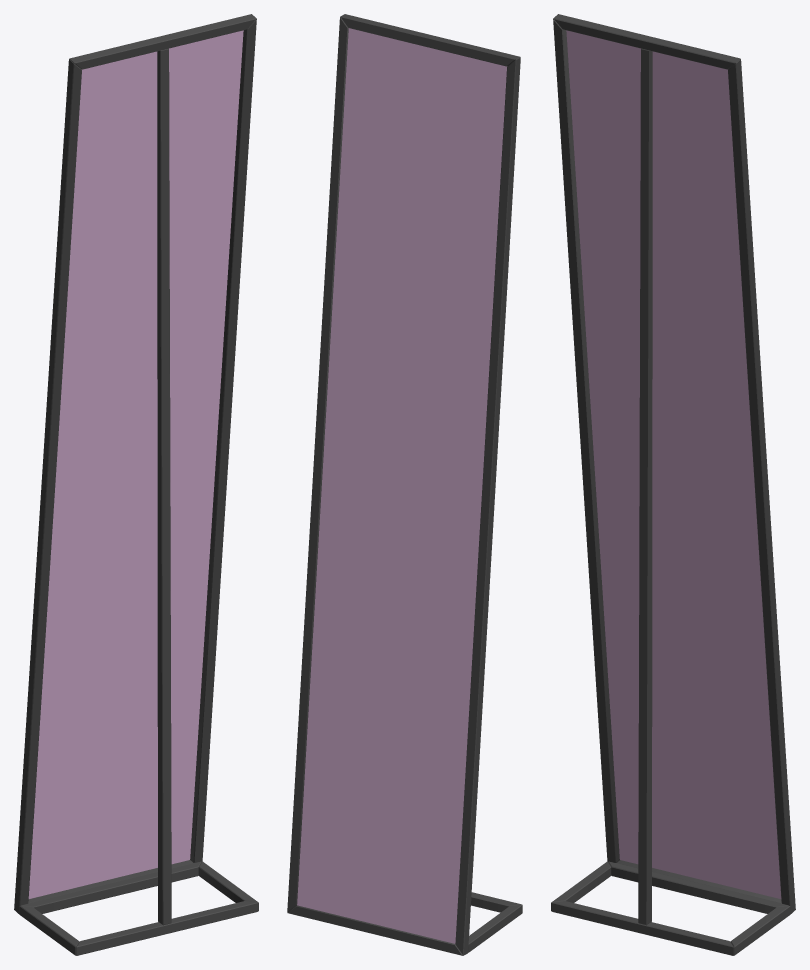
Rendered from SM_mirrow.fbx.
3 renders of one model, left to right at view 1: azimuth 30°, elevation 25°; view 2: azimuth 150°, elevation 25°; view 3: azimuth 330°, elevation 25°, orthographic. The views are drawn at different scales.
Visible parts, largest first — view 1: SM_mirrow; view 2: SM_mirrow; view 3: SM_mirrow.
Boxes of the visible parts, x1=… form: SM_mirrow: x1=14, y1=14, x2=258, y2=955; SM_mirrow: x1=287, y1=14, x2=522, y2=955; SM_mirrow: x1=551, y1=14, x2=795, y2=955.
Size of the model in its own units: 60 by 279 by 35.18.
